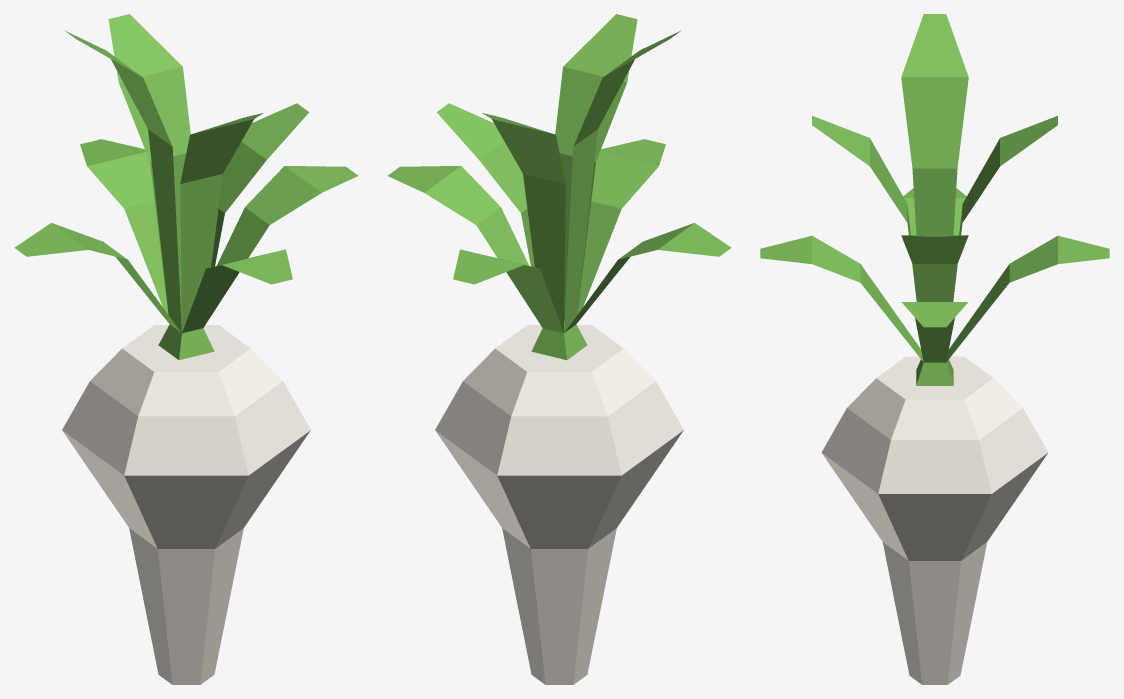
Rendered from crop_turnip.glb.
3 renders of one model, left to right at view 1: azimuth 30°, elevation 25°; view 2: azimuth 150°, elevation 25°; view 3: azimuth 270°, elevation 25°, orthographic. The views are drawn at different scales.
Visible parts, largest first — view 1: crop_turnip; view 2: crop_turnip; view 3: crop_turnip.
Part boxes in pixels (bbox=[...]): crop_turnip: bbox=[14, 14, 358, 684]; crop_turnip: bbox=[387, 14, 731, 684]; crop_turnip: bbox=[760, 14, 1109, 684].
Bounding box in the file's own units: 0.3431 × 0.6607 × 0.3431.
